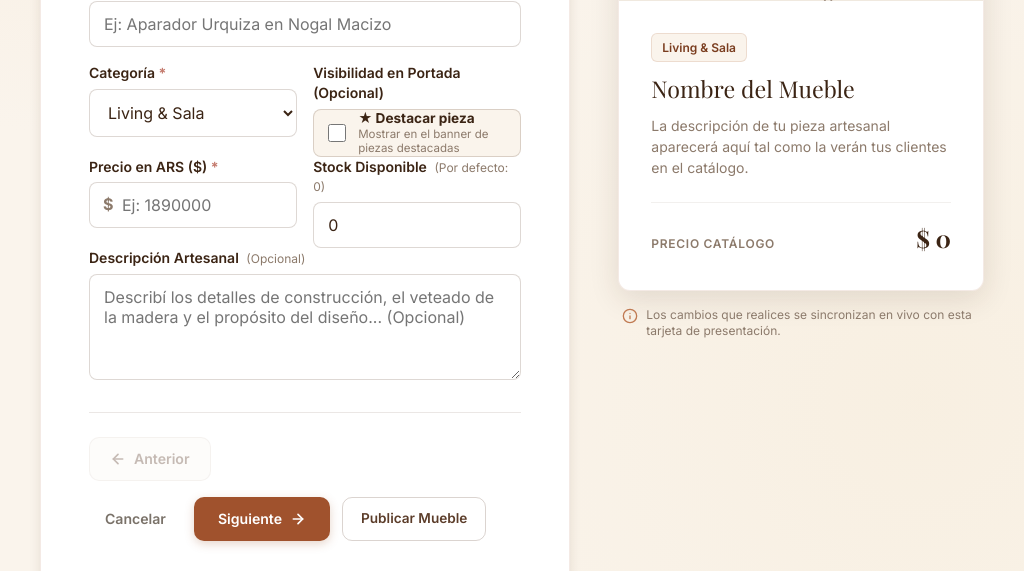
Test case: ProductForm Component › muestra errores de validación si faltan campos obligatorios o el stock es negativo
The width and height of the screenshot is (1024, 571).
(page scrolled)
Si ingresamos un stock negativo no permitido
In the number field labelled "Stock Disponible (Por defecto: 0)": (417, 225) [313,202,521,248], type "-2"
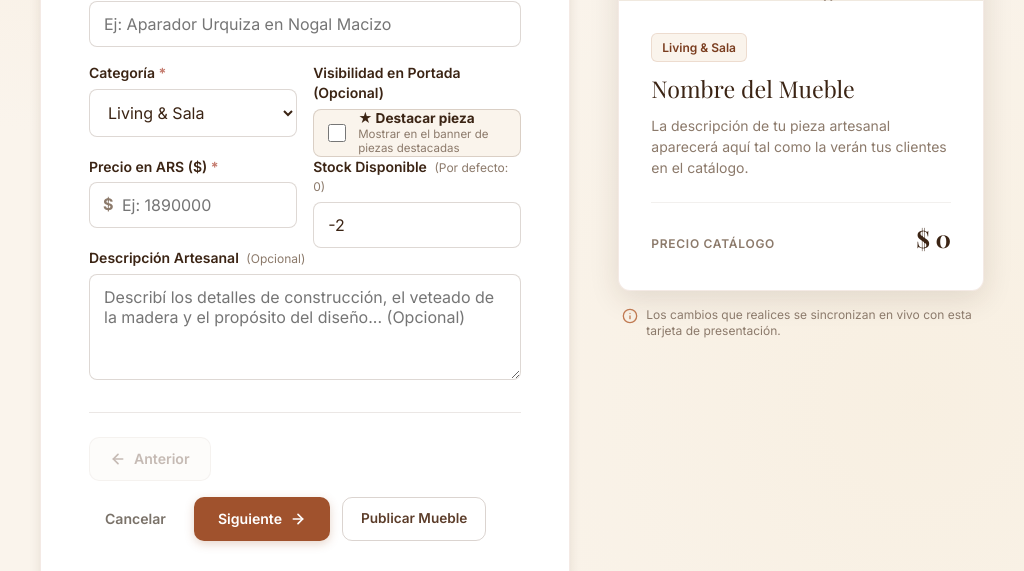
Click the button "Publicar Mueble": (414, 519) [342,497,486,541]
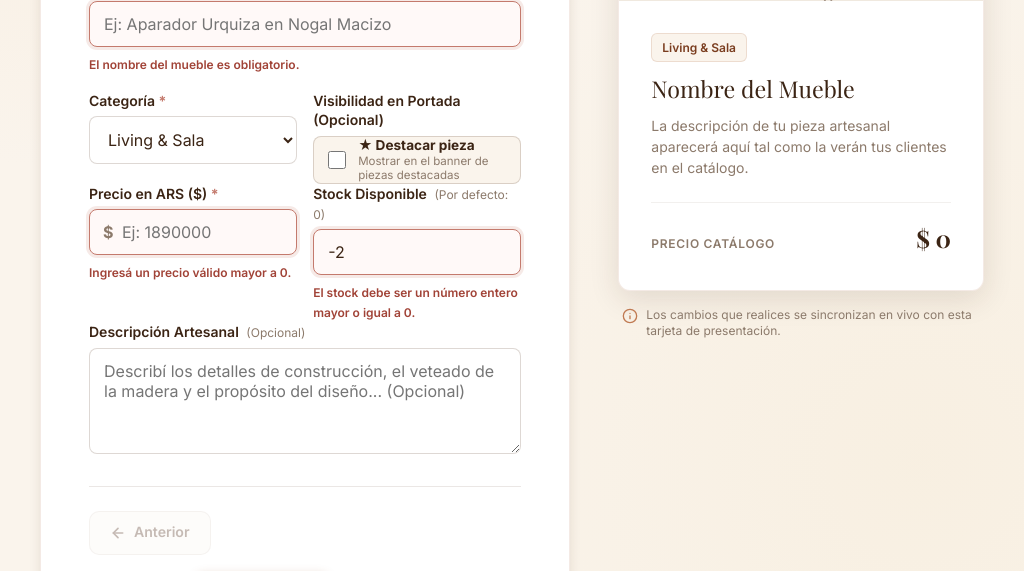
Check: the text "El nombre del mueble es obligatorio." is shown, box [89,57,300,72]
Check: the text "Ingresá un precio válido mayor a 0." is shown, box [89,263,297,282]
Check: the text "El stock debe ser un número entero mayor o igual a 0." is shown, box [313,283,521,322]
